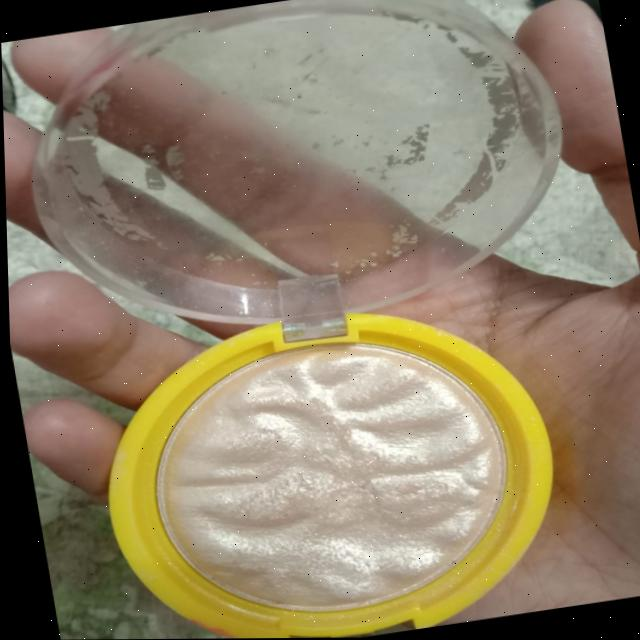highlighter: (73, 283, 582, 640)
